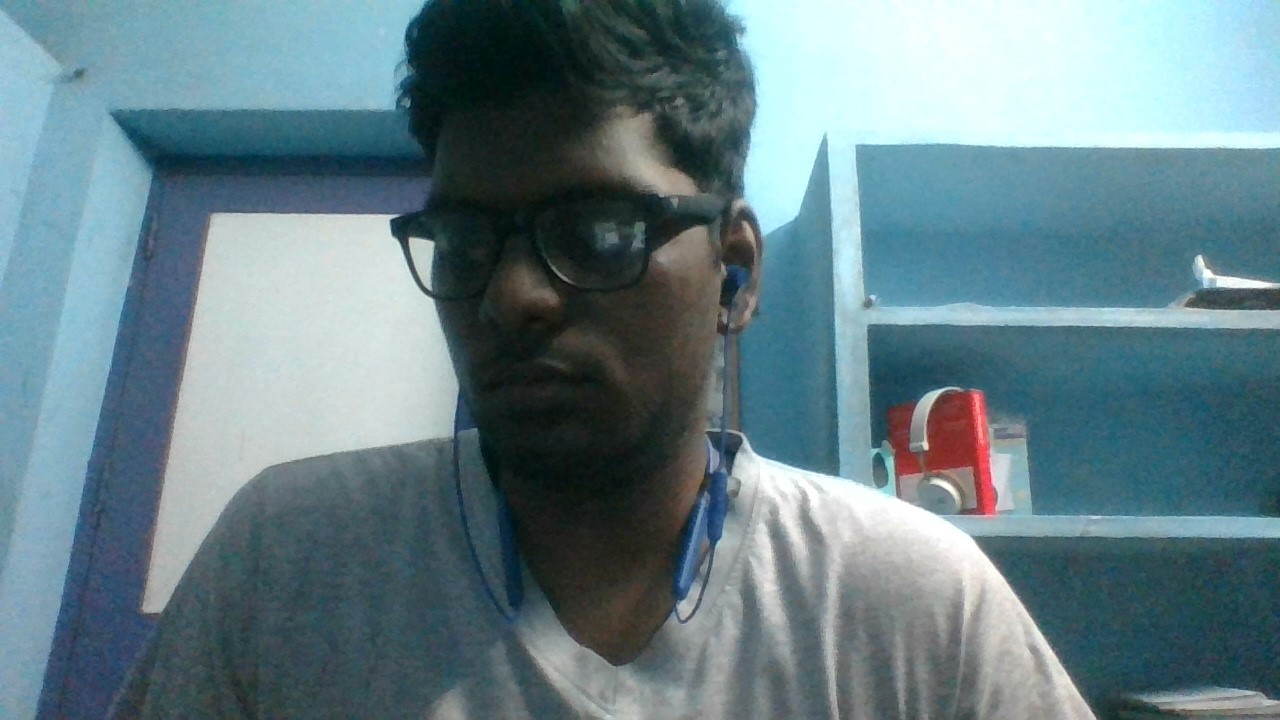person: (127, 4, 1074, 720)
